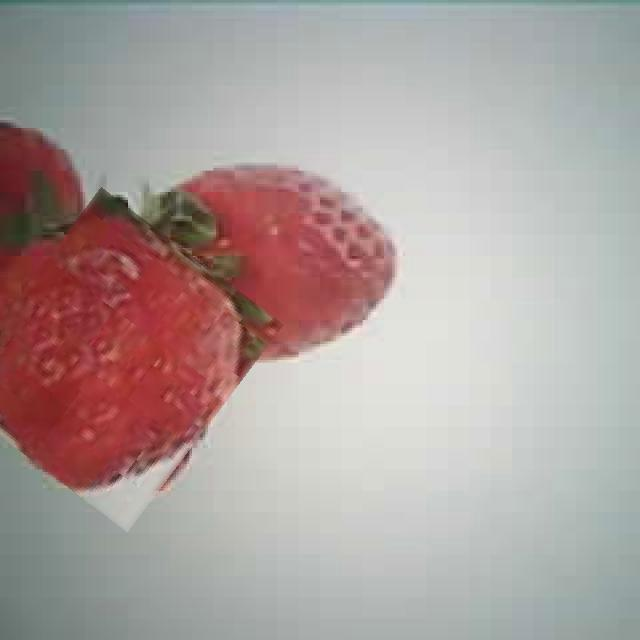strawberry: (0, 208, 257, 510)
